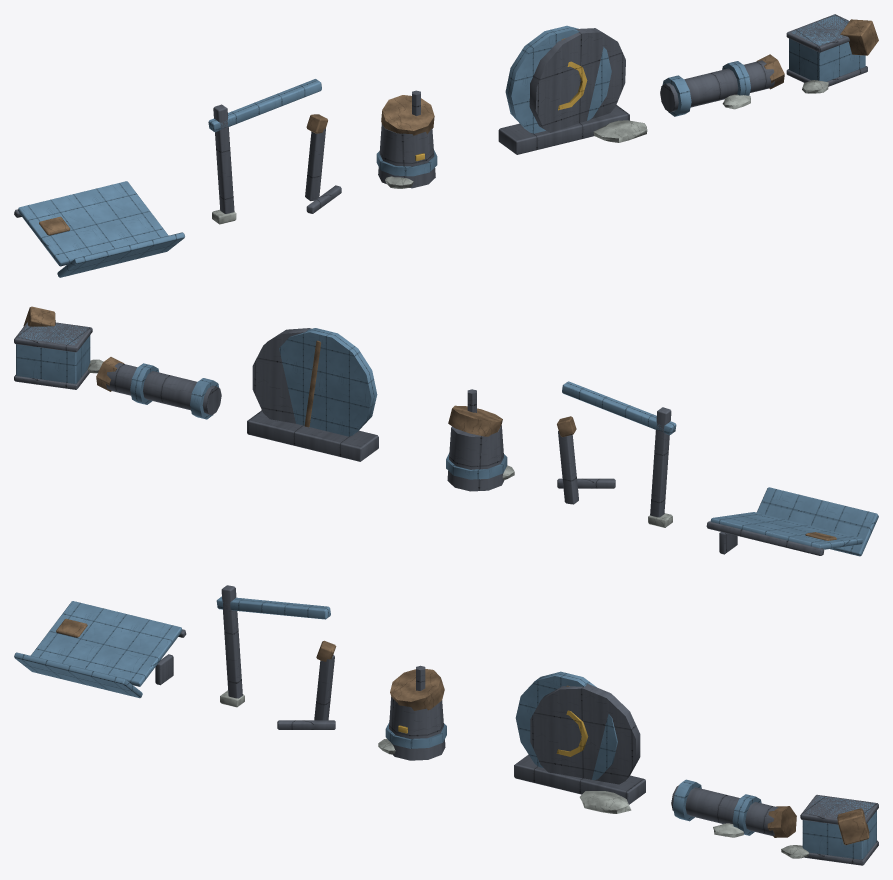
3 renders of one model, top to bottom at view 1: azimuth 30°, elevation 25°; view 2: azimuth 150°, elevation 25°; view 3: azimuth 330°, elevation 25°, orthographic.
Visible parts, largest first — view 1: DL010_WreckageSet_faded_blue, DL010_WreckageSet_metal_dark, DL010_WreckageSet_corrosion, DL010_WreckageSet_mineral; view 2: DL010_WreckageSet_faded_blue, DL010_WreckageSet_metal_dark, DL010_WreckageSet_corrosion, DL010_WreckageSet_mineral; view 3: DL010_WreckageSet_metal_dark, DL010_WreckageSet_faded_blue, DL010_WreckageSet_corrosion, DL010_WreckageSet_mineral.
Boxes of the visible parts, <box> form: DL010_WreckageSet_faded_blue: <box>18,15,865,277</box>; DL010_WreckageSet_metal_dark: <box>14,14,867,217</box>; DL010_WreckageSet_corrosion: <box>39,19,878,235</box>; DL010_WreckageSet_mineral: <box>212,80,828,224</box>; DL010_WreckageSet_faded_blue: <box>16,324,878,556</box>; DL010_WreckageSet_metal_dark: <box>14,322,824,555</box>; DL010_WreckageSet_corrosion: <box>23,306,836,540</box>; DL010_WreckageSet_mineral: <box>87,359,672,527</box>; DL010_WreckageSet_metal_dark: <box>155,585,878,865</box>; DL010_WreckageSet_faded_blue: <box>14,596,876,859</box>; DL010_WreckageSet_corrosion: <box>56,618,869,844</box>; DL010_WreckageSet_mineral: <box>220,690,809,858</box>.
Size of the model in its own units: 18.13 by 2.52 by 2.3.
5 materials, 5 textured.
